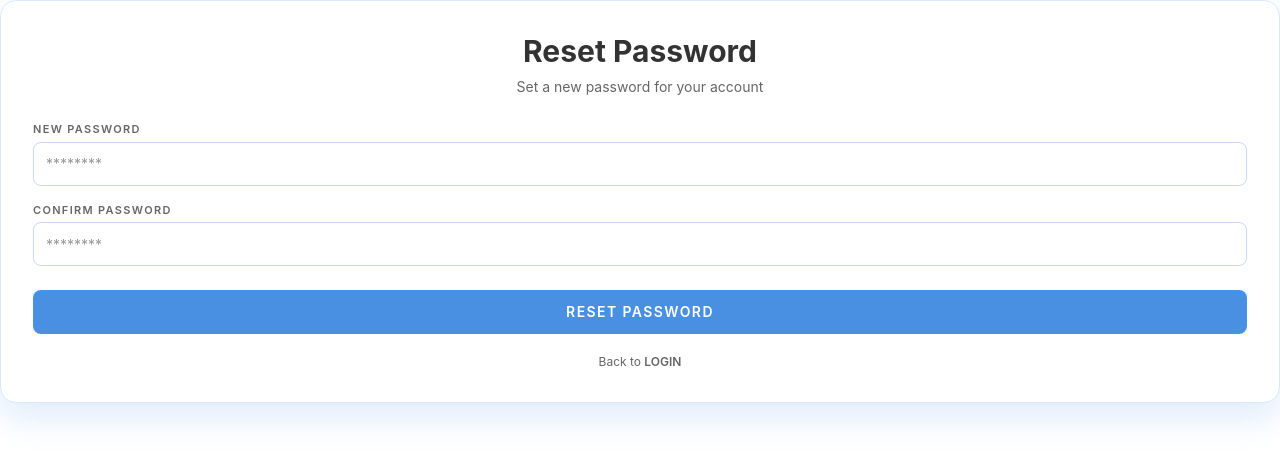
Test: ResetPasswordForm › shows mismatch error when passwords differ
Type "newpass" into the 1st password field with placeholder "********" at {"x": 640, "y": 164}, box [33,142,1247,186]
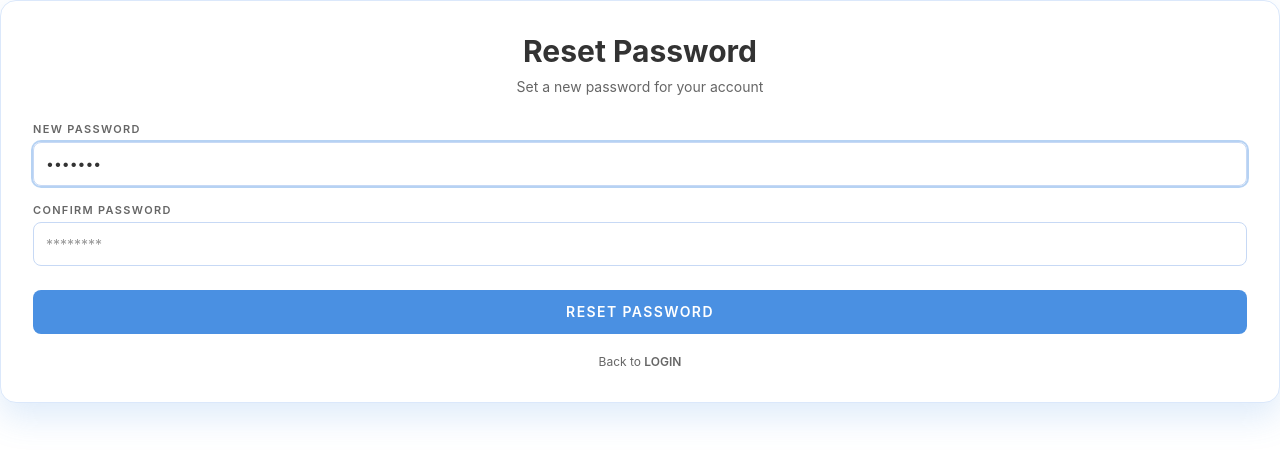
Type "different" into the password field with placeholder "********" at {"x": 640, "y": 244}, box [33,222,1247,266]
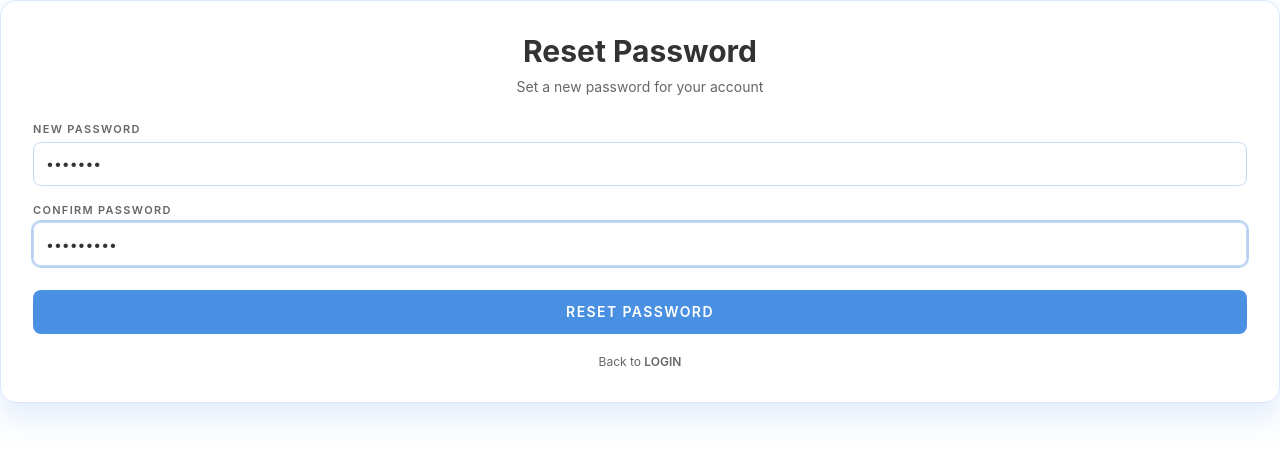
Click the button "Reset Password" at {"x": 640, "y": 312}, box [33,290,1247,334]
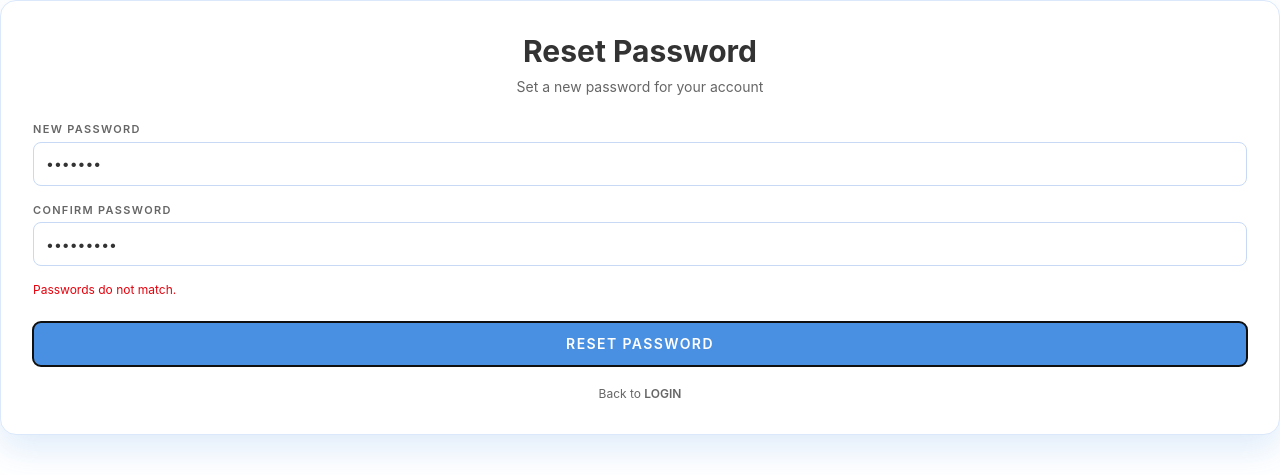
Expected: the text "Passwords do not match." is shown, [33,282,176,297]
